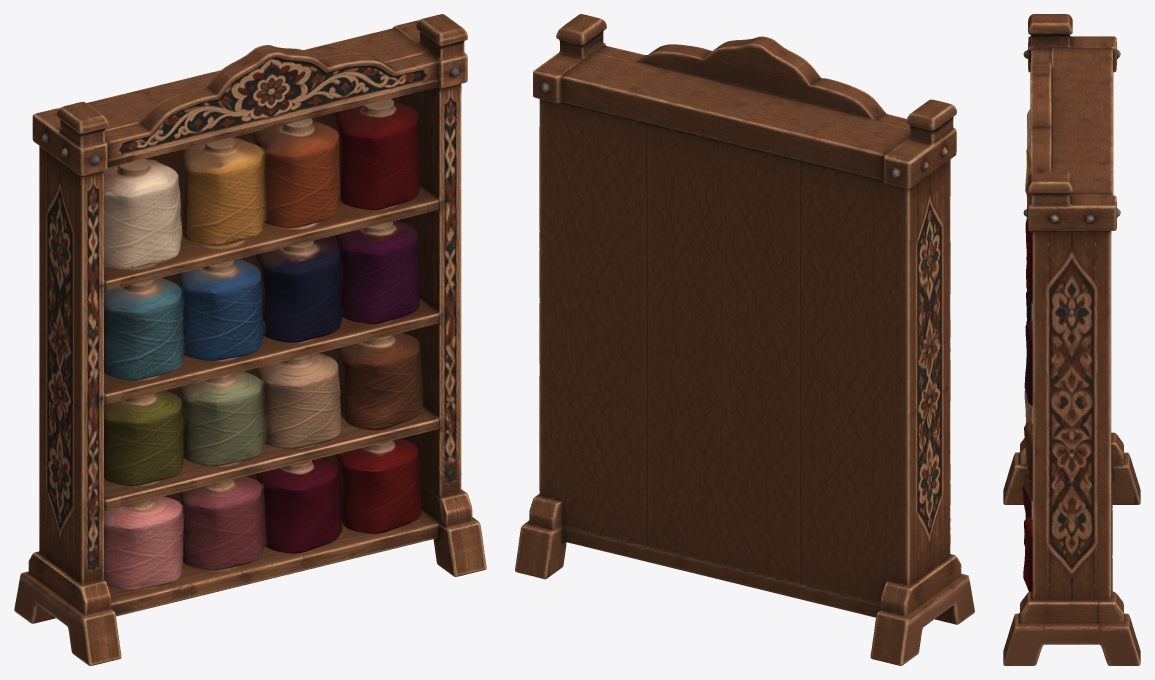
Rendered from iplik_bobini.glb.
3 views of the same model, side by side, from view 1: azimuth 30°, elevation 25°; view 2: azimuth 150°, elevation 25°; view 3: azimuth 270°, elevation 25° (orthographic). The views are drawn at different scales.
Size of the model in its own units: 1.43 by 1.9 by 0.473.
Materials: 1 (1 with a texture image).
